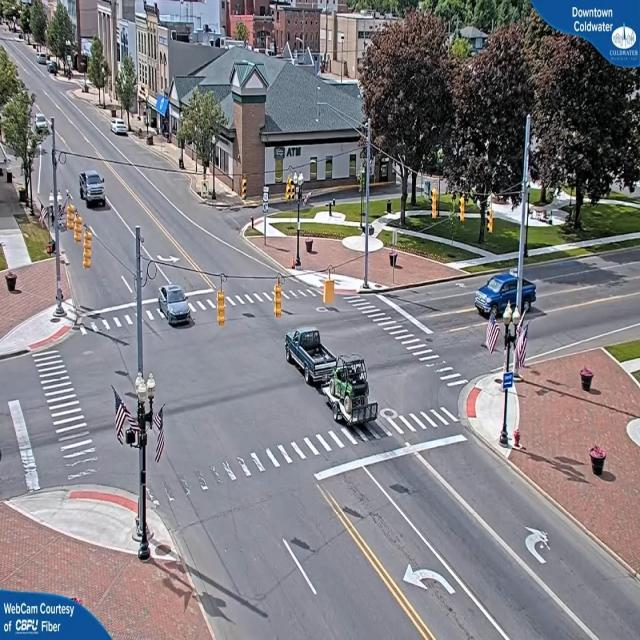car: (156, 284, 192, 327), (78, 172, 108, 206)
